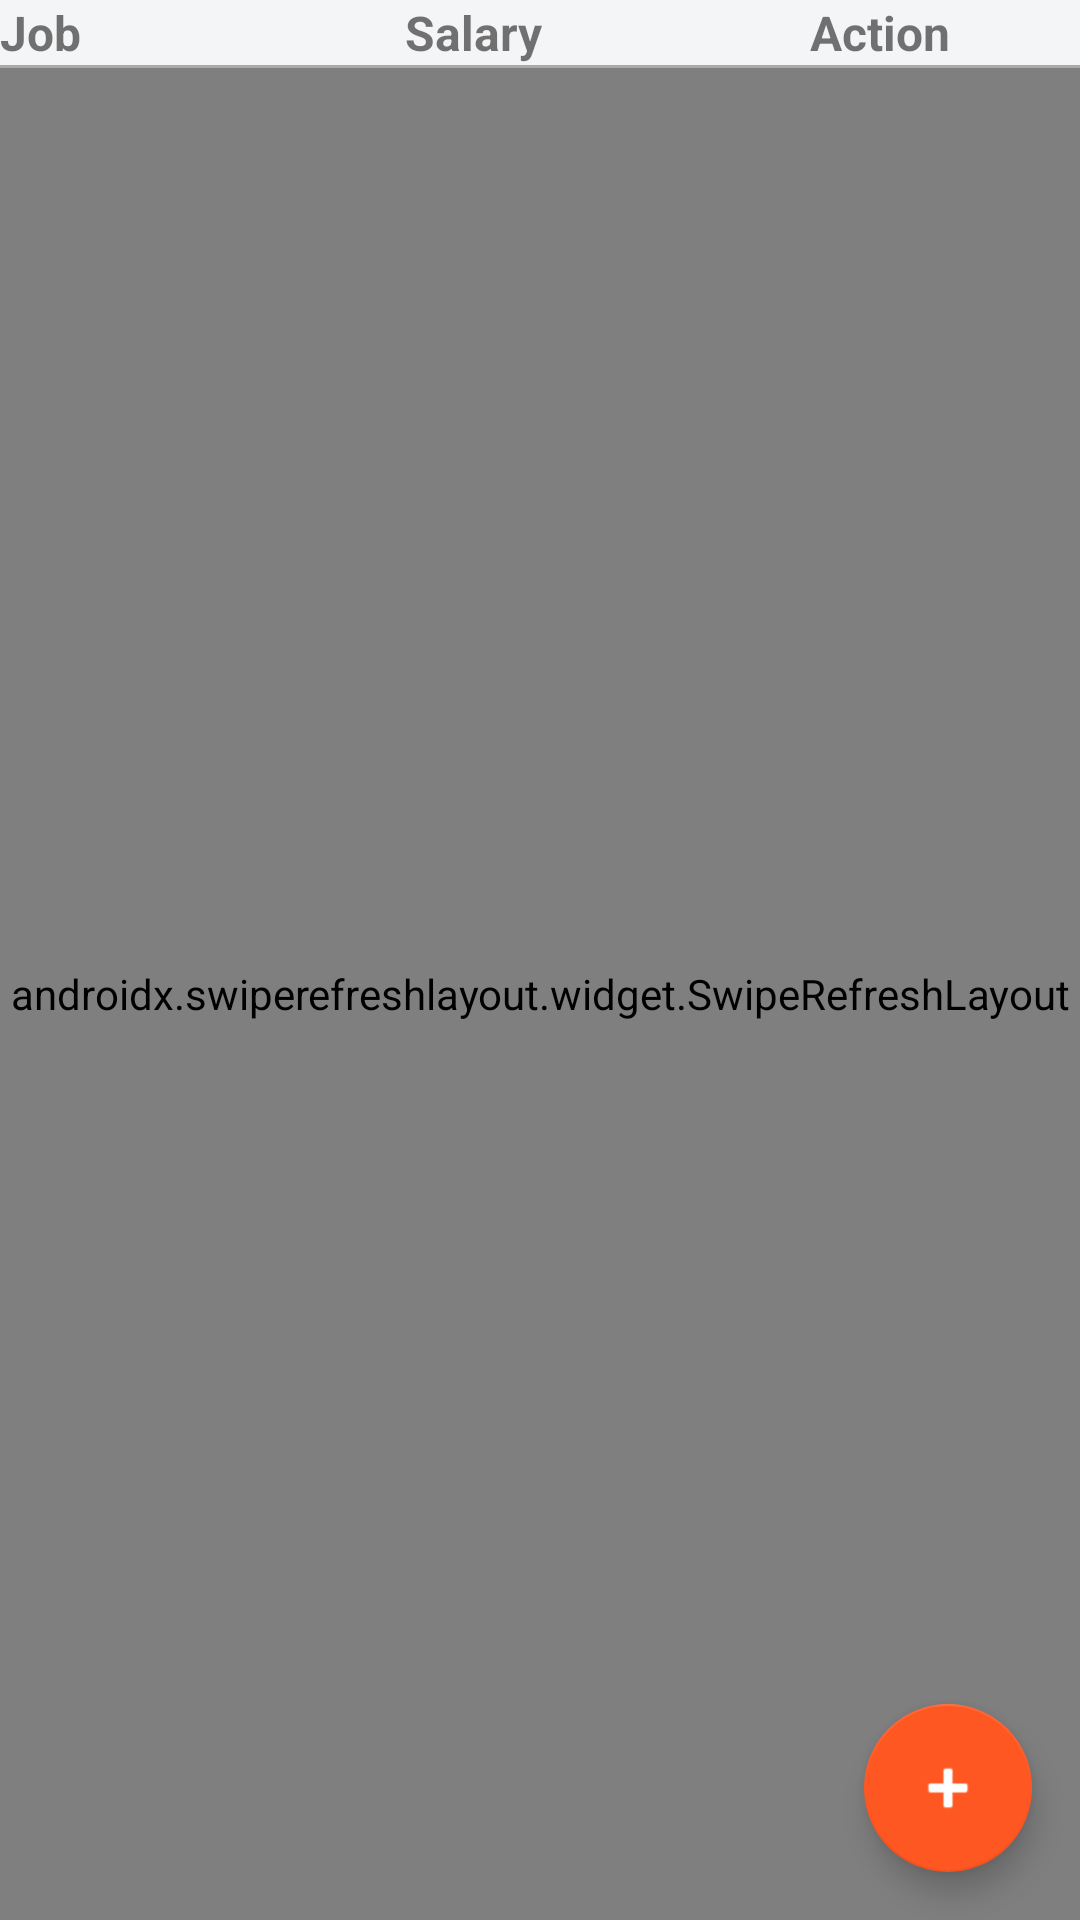

Where icons sit on this 1080px×1920px app screen, as (x1=x1, y1=y1, x2=x2, y2=y2):
Add Data: (x1=864, y1=1704, x2=1032, y2=1872)
